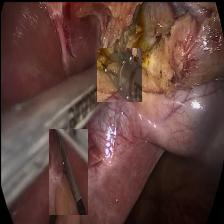Clipper: (96, 47, 141, 101)
Grasper: (48, 128, 87, 214)
